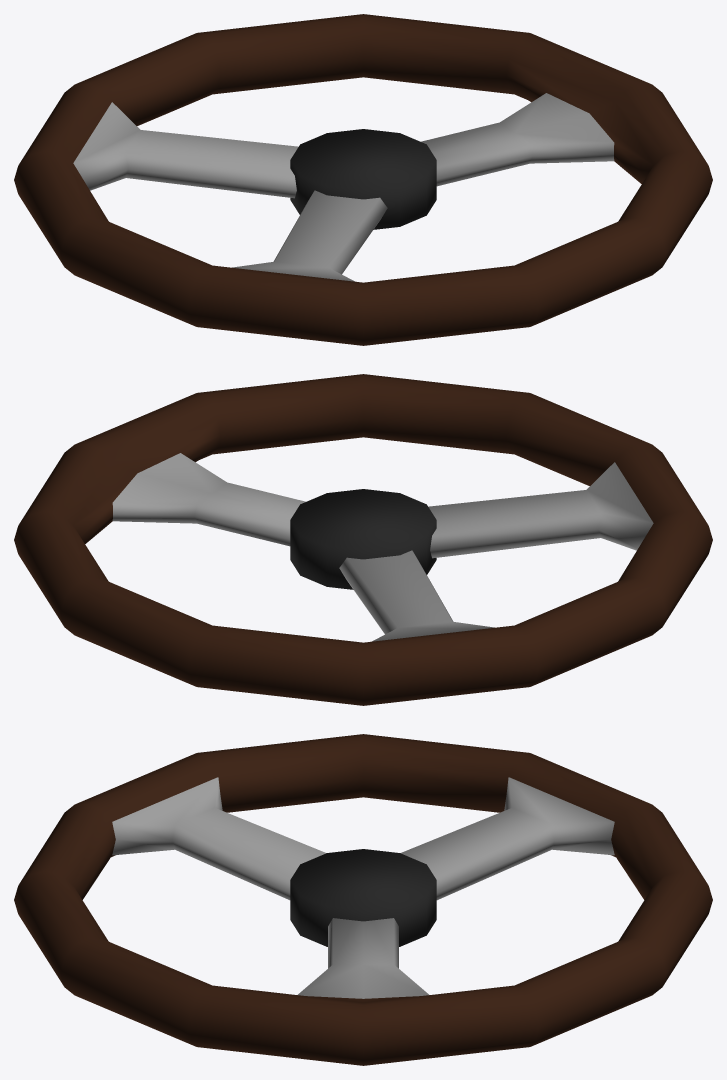
Rendered from SteeringWheel.fbx.
3 renders of one model, top to bottom at view 1: azimuth 30°, elevation 25°; view 2: azimuth 150°, elevation 25°; view 3: azimuth 270°, elevation 25°, orthographic.
Visible parts, largest first — view 1: Torus; view 2: Torus; view 3: Torus.
Part boxes in pixels (x1,y1,x2,y2): Torus: (14, 14, 712, 345); Torus: (14, 374, 712, 705); Torus: (14, 734, 712, 1065).
Size of the model in its own units: 2.2 by 0.2 by 2.2.
